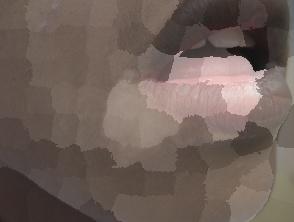vitiligo: (74, 41, 267, 167)
